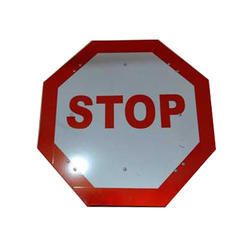stop: (49, 42, 207, 207)
